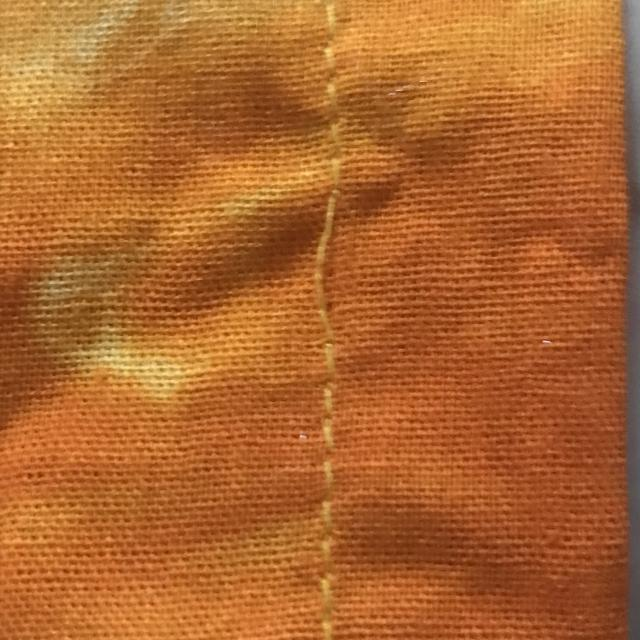skip: (264, 173, 375, 361)
